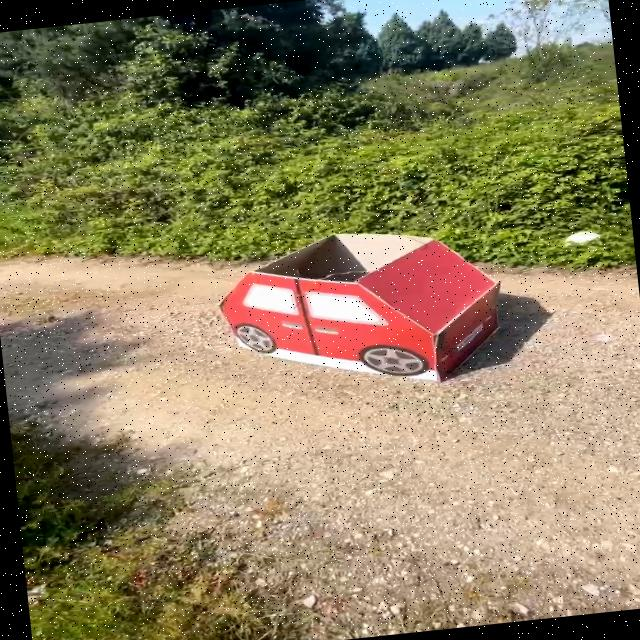red_car: (196, 212, 524, 415)
